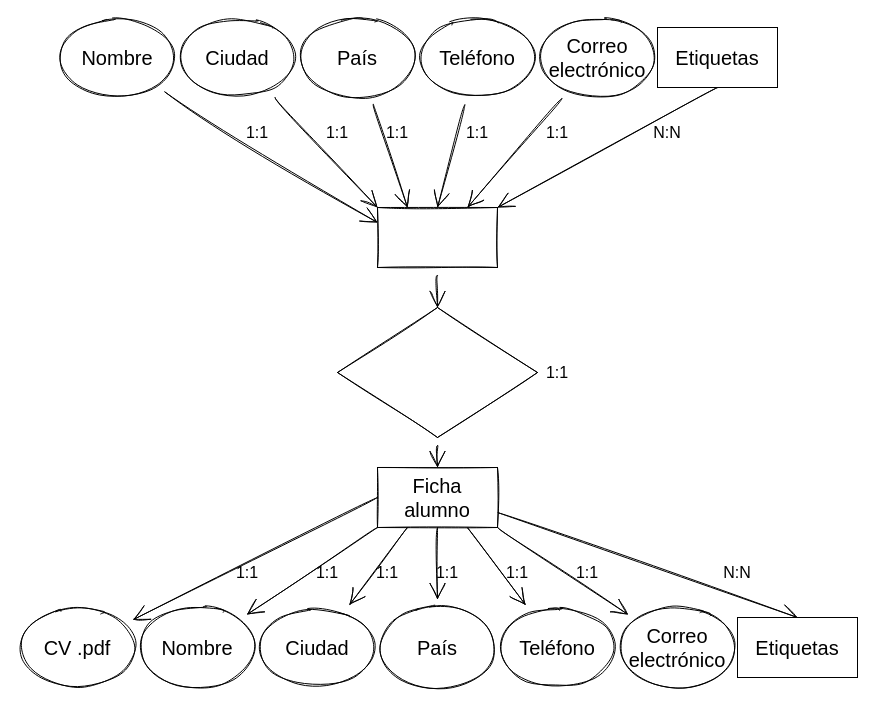
The diagram is 875 pixels wide and 705 high, and some of its shapes have lost their labels. The box of each missing label's shape, as (x1, y1, x2, y2) in pixels:
Escribe/completa datos: (336, 306, 538, 438)
Usuario: (376, 206, 498, 268)
